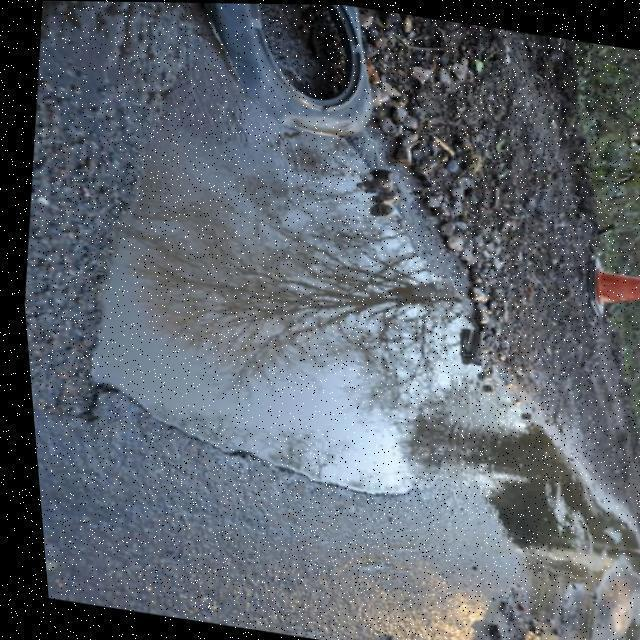Pothole: (23, 1, 502, 508)
